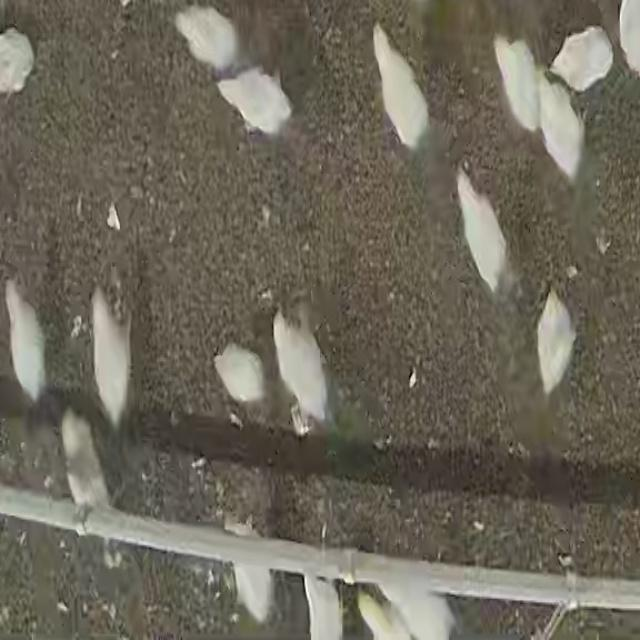chicken: (86, 285, 140, 430), (372, 22, 431, 154), (454, 165, 506, 304), (274, 307, 330, 428), (4, 281, 49, 408), (59, 405, 112, 511), (216, 66, 292, 136), (537, 72, 584, 184), (492, 34, 540, 135), (172, 3, 242, 72), (378, 582, 464, 638), (550, 25, 612, 93), (539, 292, 575, 393), (212, 344, 267, 407), (352, 590, 414, 640), (231, 566, 278, 624), (301, 578, 342, 639), (0, 27, 36, 96), (618, 0, 640, 81)
